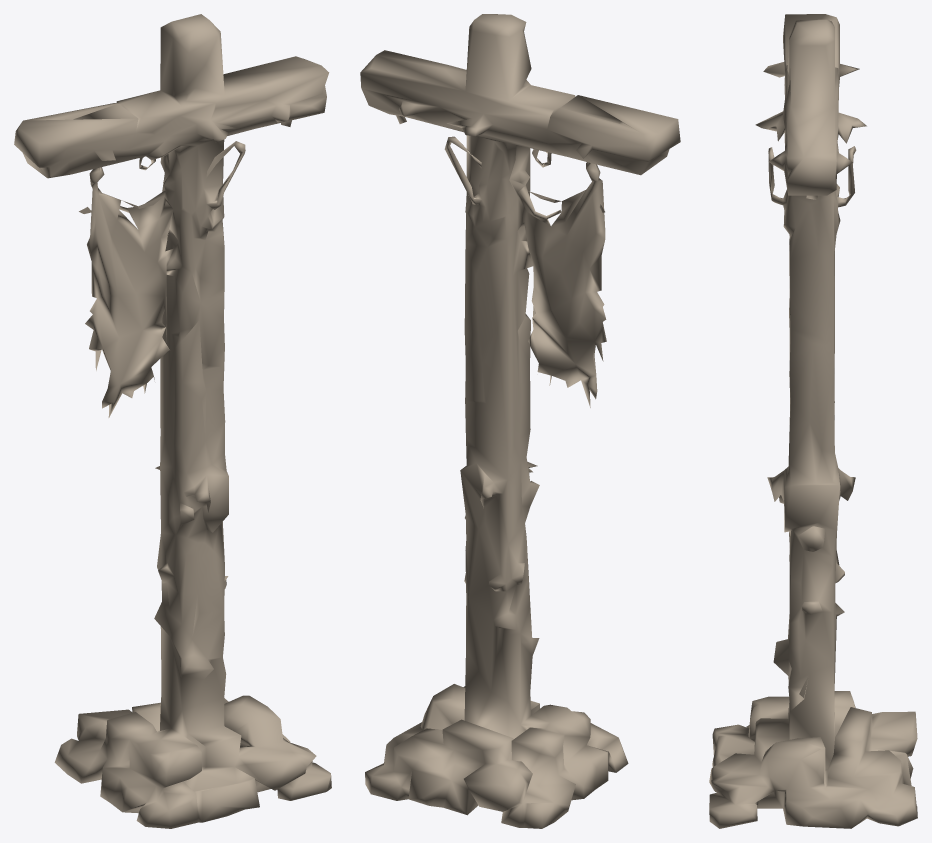
Rendered from kit_awning_post.glb.
3 views of the same model, side by side, from view 1: azimuth 30°, elevation 25°; view 2: azimuth 150°, elevation 25°; view 3: azimuth 270°, elevation 25° (orthographic).
Visible parts, largest first — view 1: awning_post; view 2: awning_post; view 3: awning_post.
Part boxes in pixels (x1,y1,x2,y2): awning_post: (14,14,331,828); awning_post: (360,14,680,828); awning_post: (709,14,917,828).
Bounding box in the file's own units: 1.06 × 2.6 × 0.6499.
